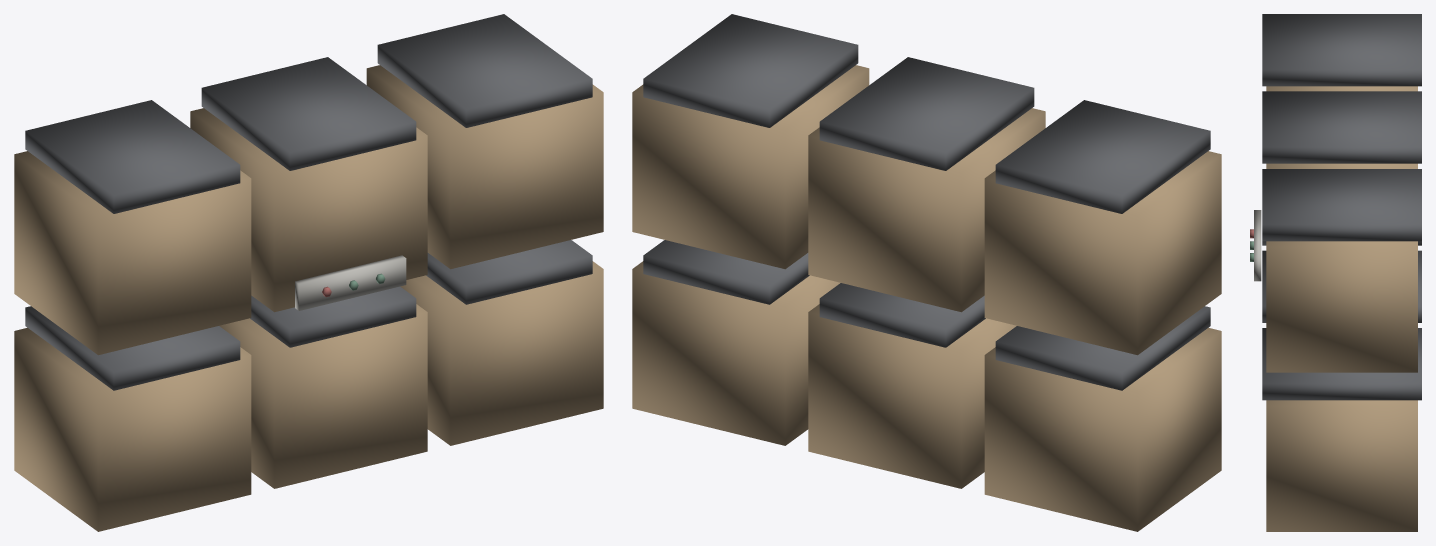
Rendered from market_produce_rack__tall.glb.
The picture shows the model from 3 angles, left to right: view 1: azimuth 30°, elevation 25°; view 2: azimuth 150°, elevation 25°; view 3: azimuth 270°, elevation 25°; orthographic projection. The views are drawn at different scales.
Visible parts, largest first — view 1: world; view 2: world; view 3: world.
Boxes of the visible parts, x1=… form: world: x1=14, y1=14, x2=603, y2=531; world: x1=632, y1=14, x2=1221, y2=531; world: x1=1250, y1=14, x2=1421, y2=531.
Size of the model in its own units: 1.32 by 0.8352 by 0.431.
